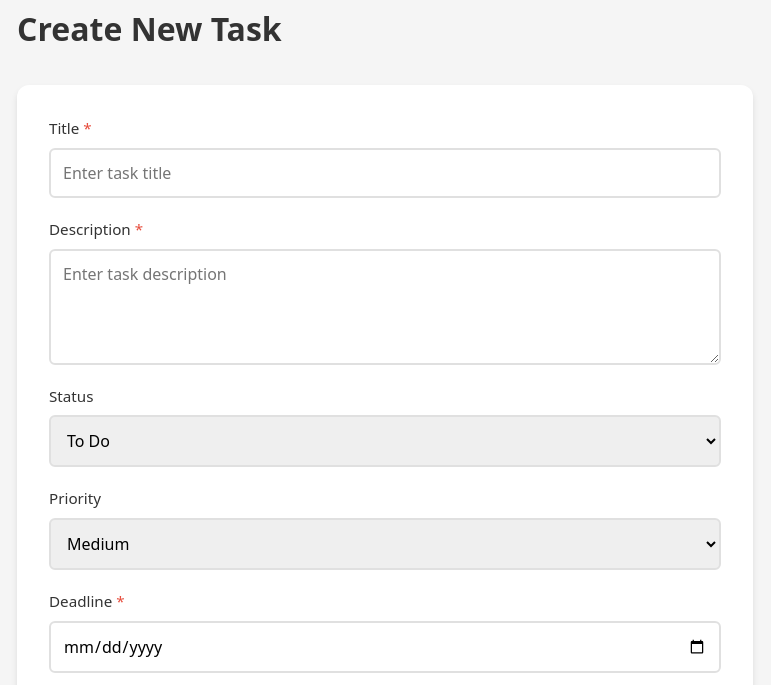
Test: TaskCreate › should display validation error messages
This screenshot has width=771, height=685.
Type "a" into the field labelled "Title *" at (385, 173), box [49,148,721,198]
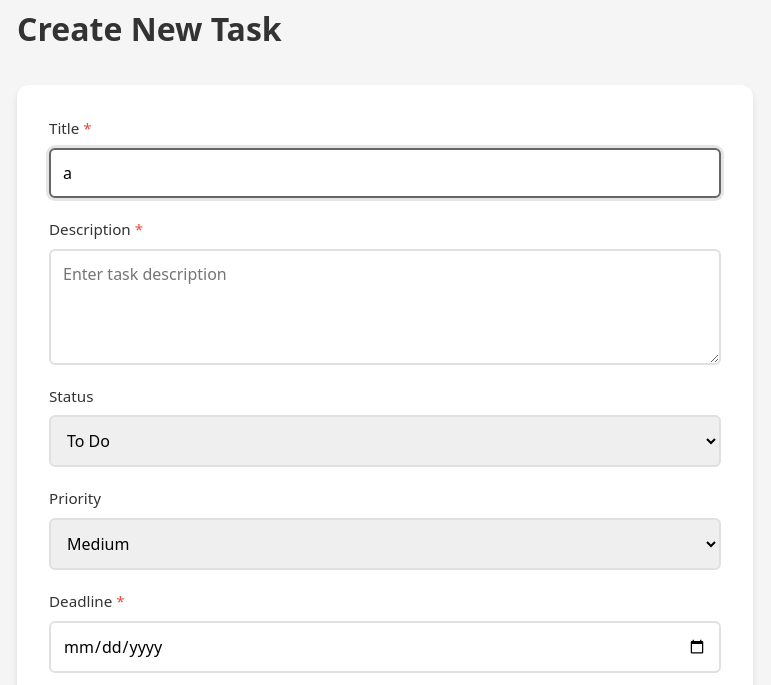
Clear the field labelled "Title *" at (385, 173), box [49,148,721,198]
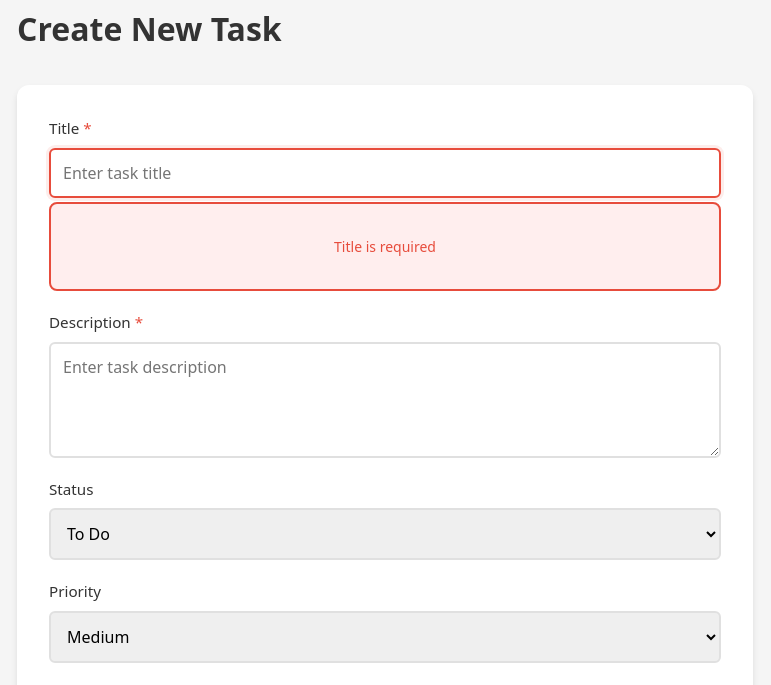
Check: the text "Title is required" is shown, box [49,202,721,291]
